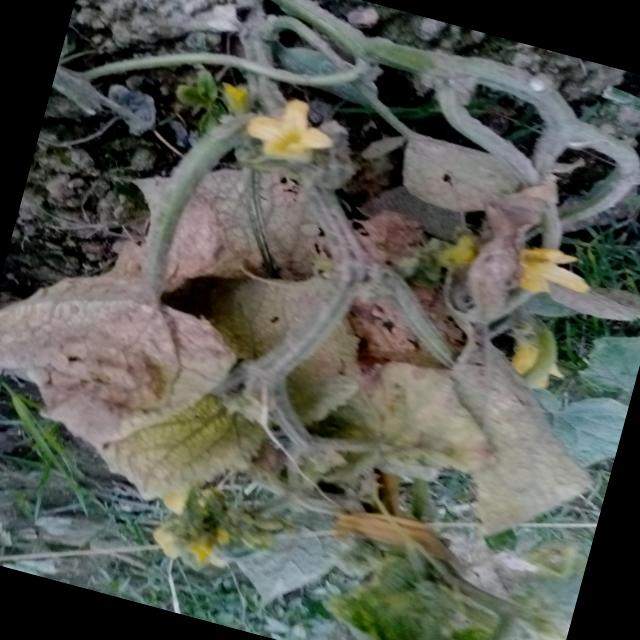cucumber_bacterial: (0, 232, 248, 492), (415, 334, 623, 582), (136, 111, 358, 306), (178, 260, 380, 463), (308, 340, 497, 522), (384, 93, 584, 257), (196, 481, 388, 634)
